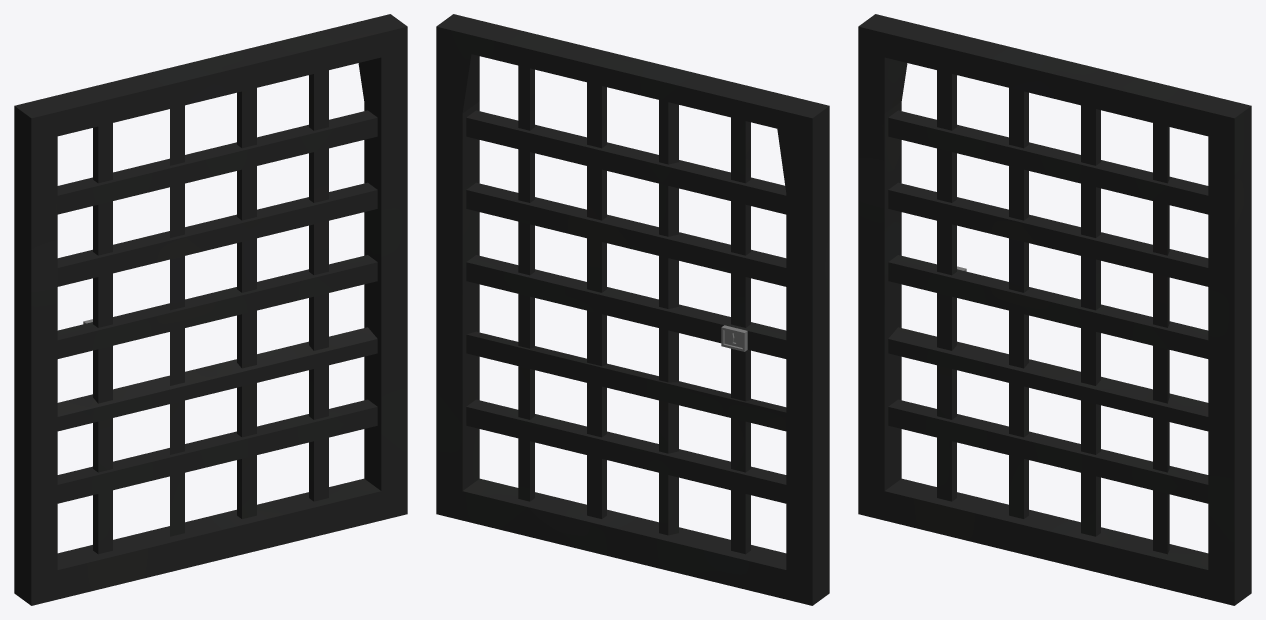
File: Door_5.fbx
3 renders of one model, left to right at view 1: azimuth 30°, elevation 25°; view 2: azimuth 150°, elevation 25°; view 3: azimuth 330°, elevation 25°, orthographic.
Visible parts, largest first — view 1: Door 5; view 2: Door 5; view 3: Door 5.
Boxes of the visible parts, x1=… form: Door 5: x1=14, y1=14, x2=407, y2=605; Door 5: x1=436, y1=14, x2=829, y2=605; Door 5: x1=858, y1=14, x2=1251, y2=605.
Bounding box in the file's own units: 164 × 204 × 13.01.
